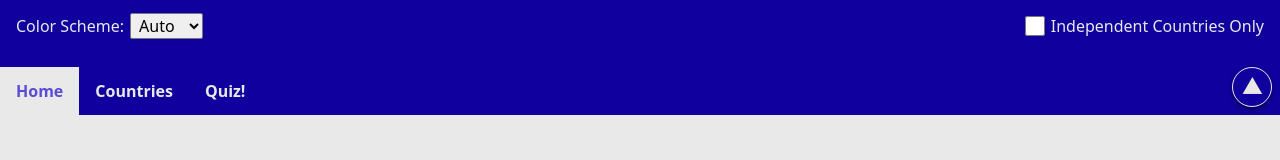
Scenario: Layout › allows the settings bar to be collapsed and expanded
The width and height of the screenshot is (1280, 160).
Check: the element named "Settings Bar" is shown, box [16,13,1264,39]
Check: the checkbox labelled "Independent Countries Only" is shown, box [1025,16,1045,36]
Step 1. Click the button named "Collapse Settings Bar" → (1252, 87), box [1232,67,1272,107]
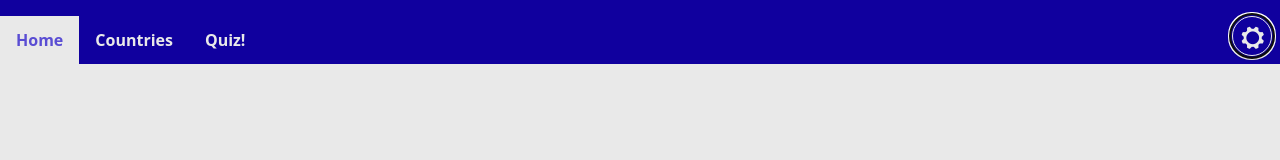
Check: the button named "Expand Settings Bar" is shown
Step 2. Click the button named "Expand Settings Bar" → (1252, 36), box [1232,16,1272,56]
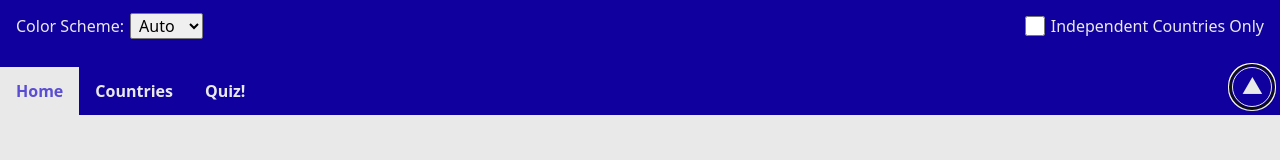
Check: the checkbox labelled "Independent Countries Only" is shown, box [1025,16,1045,36]
